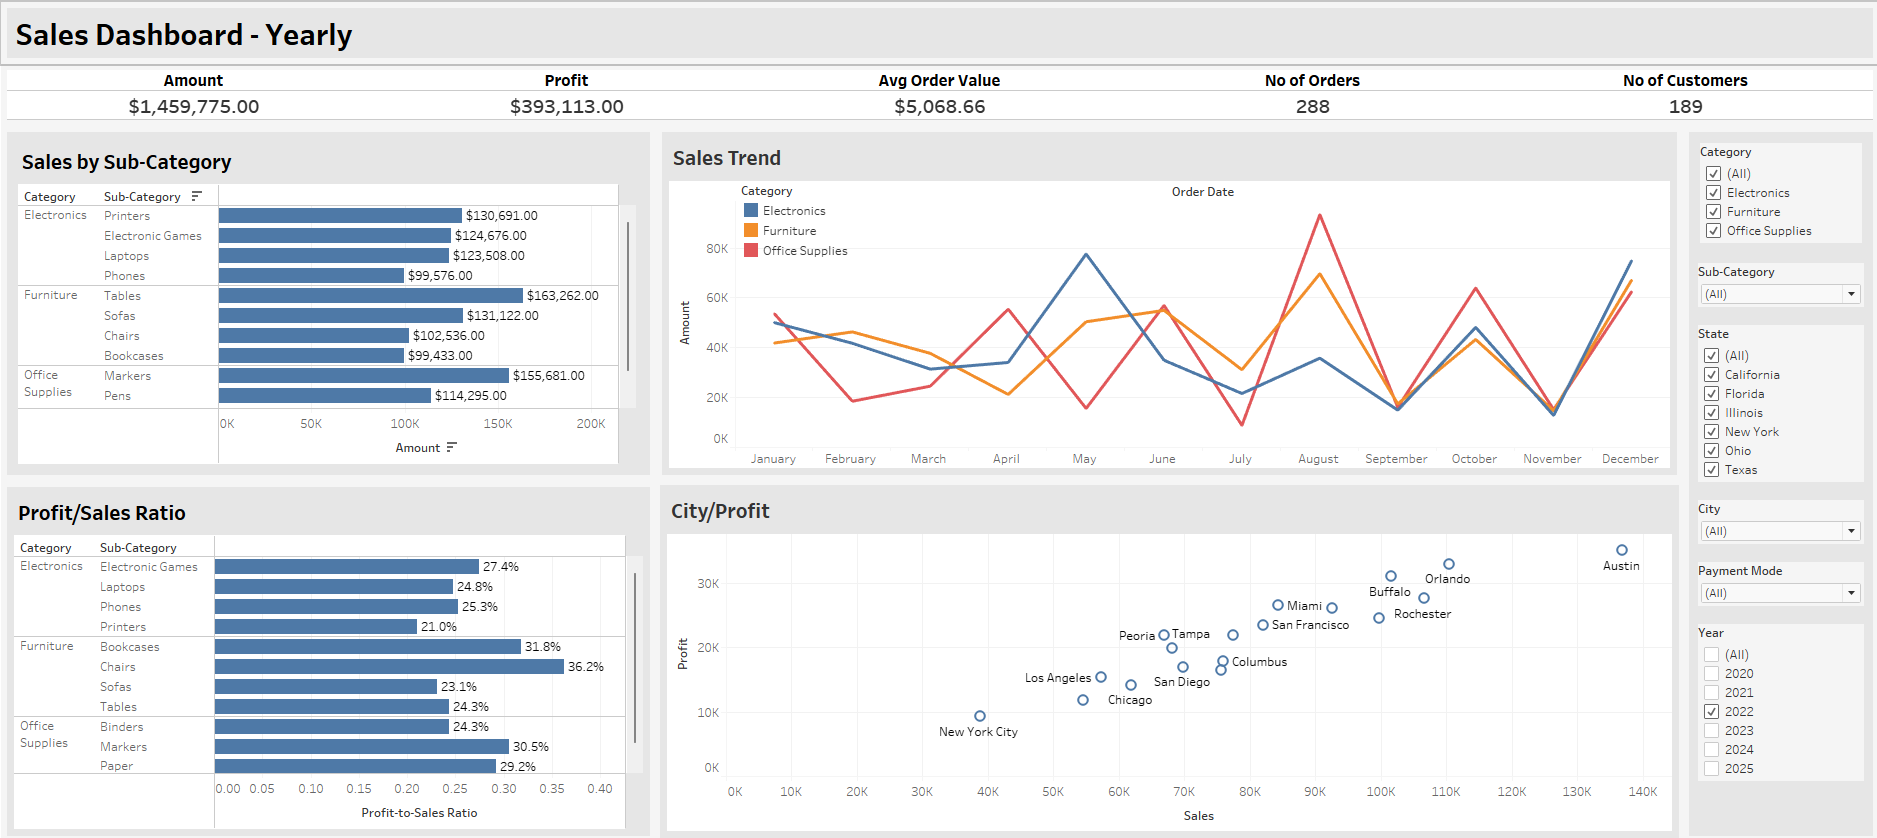

What the dashboard file says about the page in this screenshot:
{"tool":"tableau","page":{"name":"Sales Performance Dashboard","canvas":[1000,1000],"units":"permille","ordinal":0},"visuals":[{"type":"text","box":[4.7,9.3,990.6,72.4]},{"type":"worksheet","title":"KPI","mark":"Automatic","box":[4.7,81.8,990.6,72.4]},{"type":"worksheet","title":"Amount wrt SC","mark":"Automatic","rows":["Category","Sub-Category"],"cols":["Amount"],"box":[4.7,154.2,345.6,414.7]},{"type":"worksheet","title":"Sales Trend","mark":"Automatic","rows":["Amount"],"cols":["Order Date"],"box":[350.2,154.2,541.5,414.7]},{"type":"filter","title":"Amount wrt SC","param":"[federated.1nq5h920cm2hew1fgn3uw18vakn0].[none:Category:nk]","box":[895.2,161.2,96.6,142.5]},{"type":"legend","title":"Sales Trend","param":"[federated.1nq5h920cm2hew1fgn3uw18vakn0].[none:Category:nk]","box":[395,219.6,81.9,91.1]},{"type":"filter","title":"Amount wrt SC","param":"[federated.1nq5h920cm2hew1fgn3uw18vakn0].[none:Sub-Category:nk]","box":[895.2,303.7,96.6,72.4]},{"type":"filter","title":"Amount wrt SC","param":"[federated.1nq5h920cm2hew1fgn3uw18vakn0].[none:State:nk]","box":[895.2,376.2,96.6,204.4]},{"type":"worksheet","title":"Profit/Sales Ratio","mark":"Automatic","rows":["Category","Sub-Category"],"cols":["Calculation_1281837067915857923"],"box":[4.7,568.9,345.6,421.7]},{"type":"worksheet","title":"State/Profit","mark":"Automatic","rows":["Profit"],"cols":["Amount"],"box":[350.2,568.9,541.5,421.7]},{"type":"filter","title":"State/Profit","param":"[federated.1nq5h920cm2hew1fgn3uw18vakn0].[none:City:nk]","box":[895.2,580.6,96.6,72.4]},{"type":"filter","title":"Amount wrt SC","param":"[federated.1nq5h920cm2hew1fgn3uw18vakn0].[none:PaymentMode:nk]","box":[895.2,653,96.6,72.4]},{"type":"filter","title":"Amount wrt SC","param":"[federated.1nq5h920cm2hew1fgn3uw18vakn0].[yr:Order Date:ok]","box":[895.2,725.5,96.6,204.4]}]}

Visuals, with their boxes on the dashboard's canvas, which has no fixed pixel size, in thousandths of its width and height (x1, y1, x2, y2). These are canvas units, not pixel positions in the 1877x838 screenshot, which may show the page scaled, cropped or inside an application window:
text: region(5, 9, 995, 82)
"KPI" worksheet: region(5, 82, 995, 154)
"Amount wrt SC" worksheet: region(5, 154, 350, 569)
"Sales Trend" worksheet: region(350, 154, 892, 569)
"Amount wrt SC" filter: region(895, 161, 992, 304)
"Sales Trend" legend: region(395, 220, 477, 311)
"Amount wrt SC" filter: region(895, 304, 992, 376)
"Amount wrt SC" filter: region(895, 376, 992, 581)
"Profit/Sales Ratio" worksheet: region(5, 569, 350, 991)
"State/Profit" worksheet: region(350, 569, 892, 991)
"State/Profit" filter: region(895, 581, 992, 653)
"Amount wrt SC" filter: region(895, 653, 992, 725)
"Amount wrt SC" filter: region(895, 726, 992, 930)
